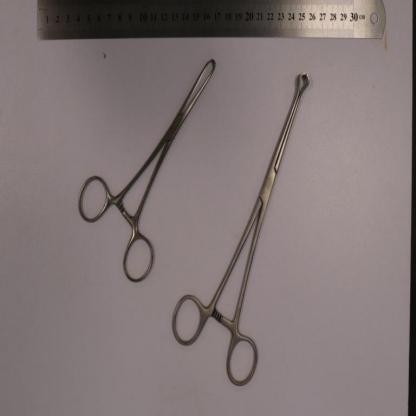8 Babcock Tissue Forceps: (170, 71, 312, 392)
Allis Tissue Forceps: (75, 58, 216, 287)
